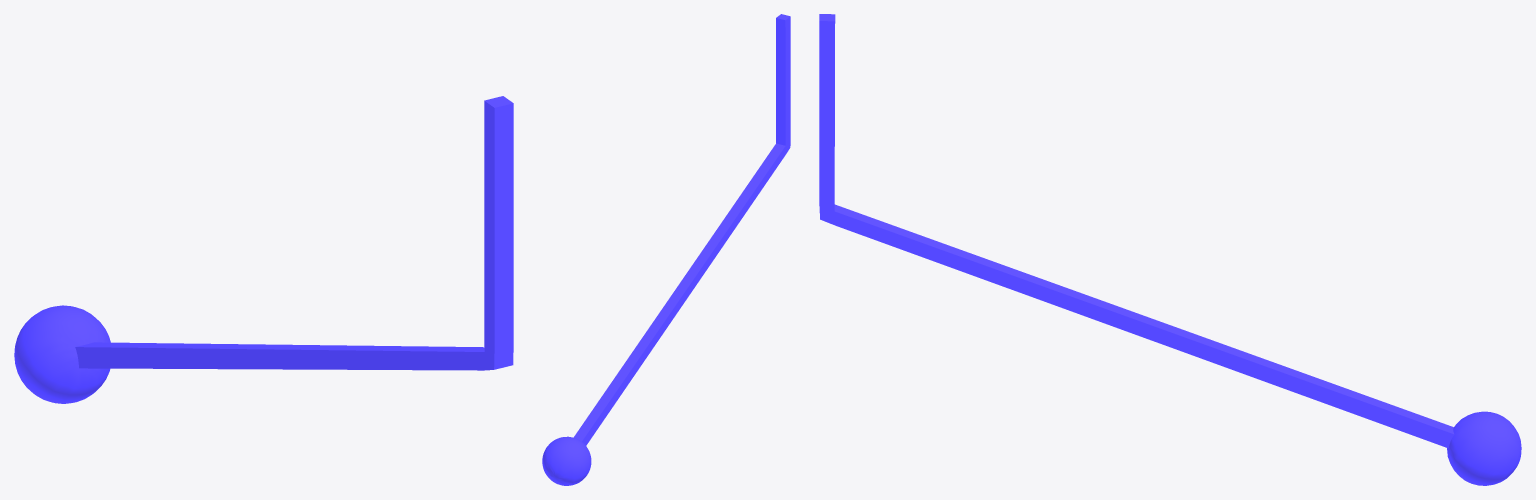
The model's file is SegnMainEsa2.gltf.
The picture shows the model from 3 angles, left to right: view 1: azimuth 30°, elevation 25°; view 2: azimuth 150°, elevation 25°; view 3: azimuth 270°, elevation 25°; orthographic projection. The views are drawn at different scales.
Parts seen in each view (by area): view 1: ListnerModuli.008; view 2: ListnerModuli.008; view 3: ListnerModuli.008.
Part boxes in pixels (x1,y1,x2,y2): ListnerModuli.008: (14,96,513,403); ListnerModuli.008: (542,14,790,485); ListnerModuli.008: (819,14,1521,485).
Size of the model in its own units: 0.0421 by 0.2896 by 0.3958.
